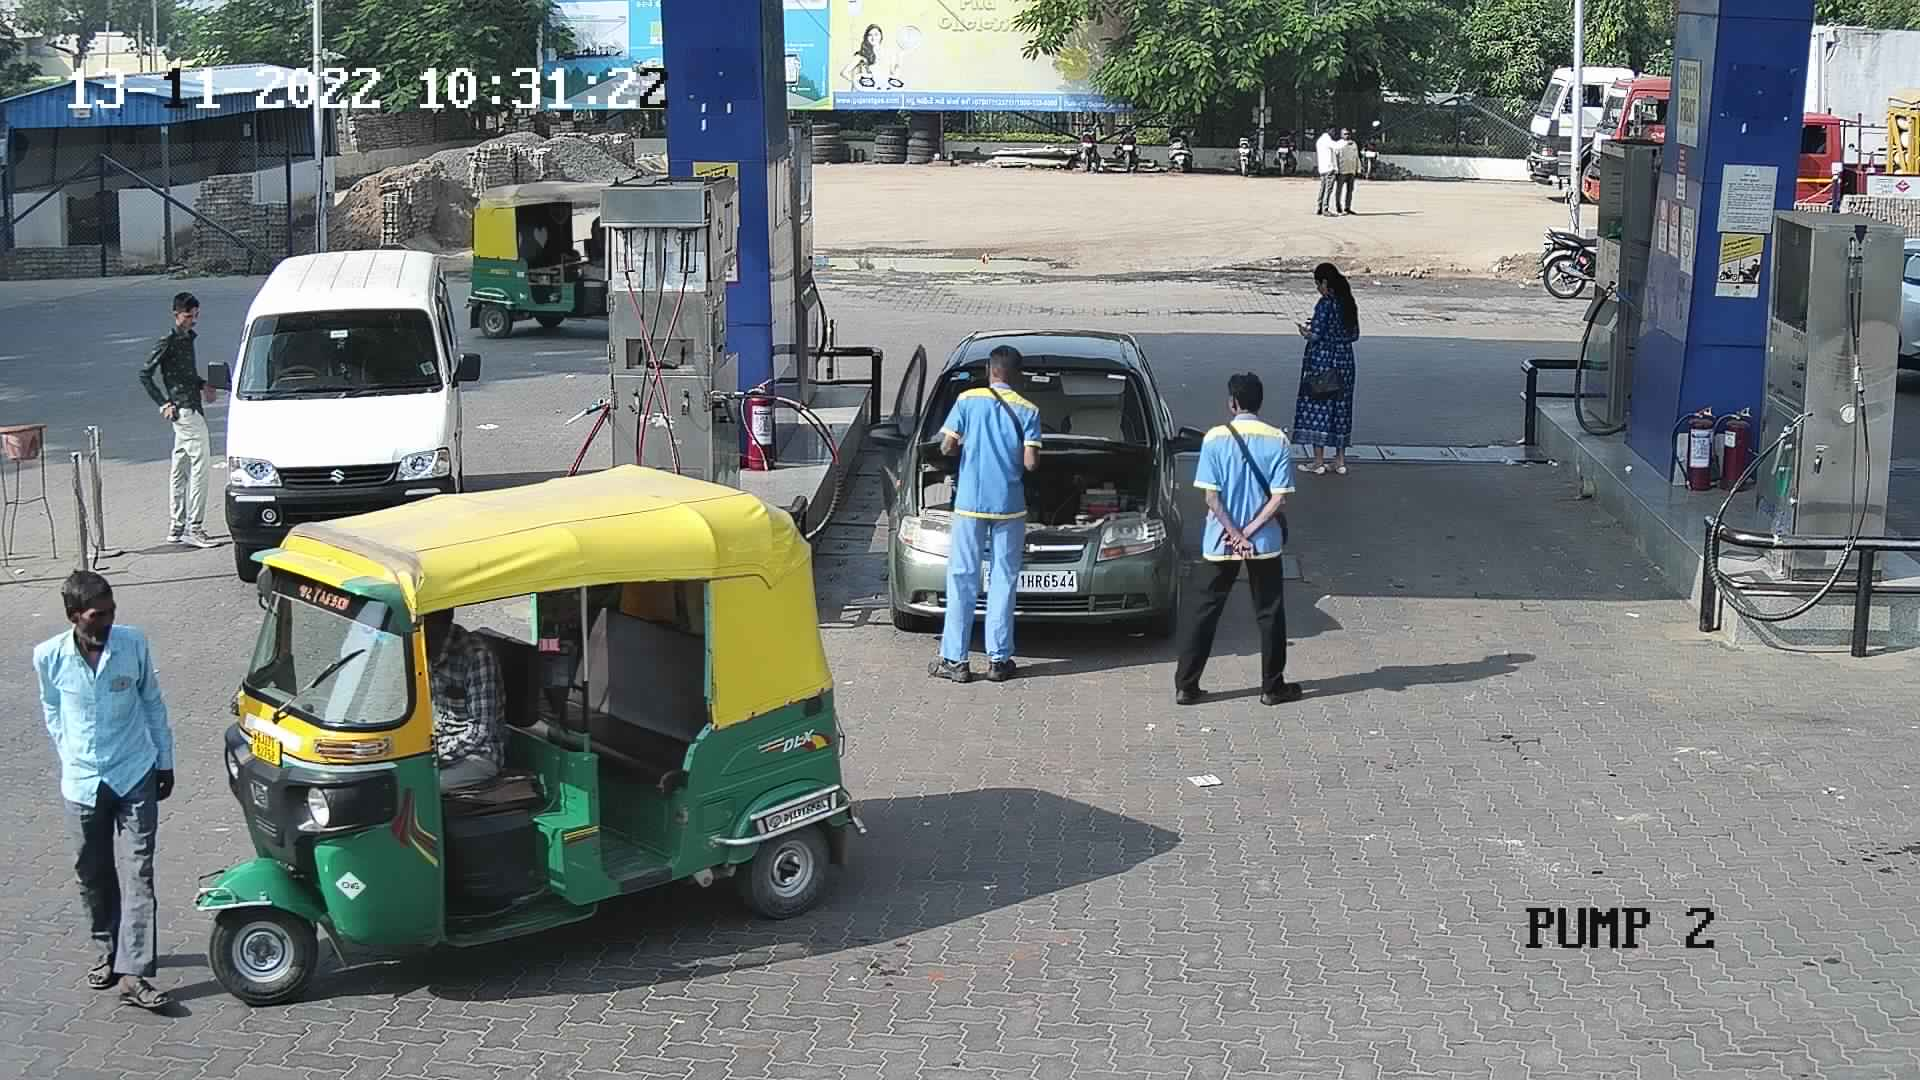Auto: (187, 455, 876, 1011), (454, 171, 632, 349)
Bike: (1530, 203, 1607, 305), (1352, 113, 1393, 182), (1266, 125, 1307, 179), (1109, 120, 1151, 171), (1071, 117, 1106, 173), (1159, 121, 1197, 171), (1230, 127, 1265, 173)
Car: (861, 316, 1211, 661), (200, 243, 495, 591), (1887, 219, 1917, 389)
HMV: (1513, 50, 1676, 203), (1776, 78, 1917, 214), (1577, 69, 1676, 204)
Others: (1168, 367, 1309, 707), (926, 340, 1048, 684)
